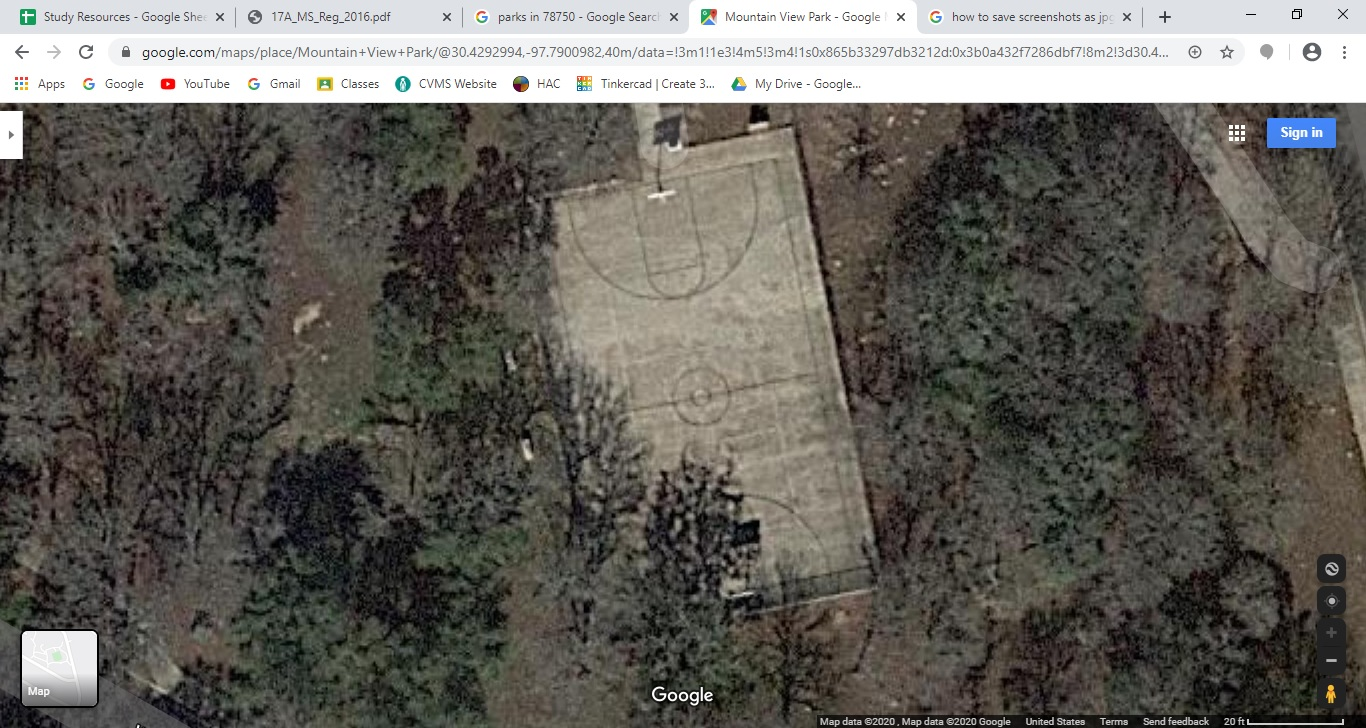basketball: (482, 125, 990, 682)
